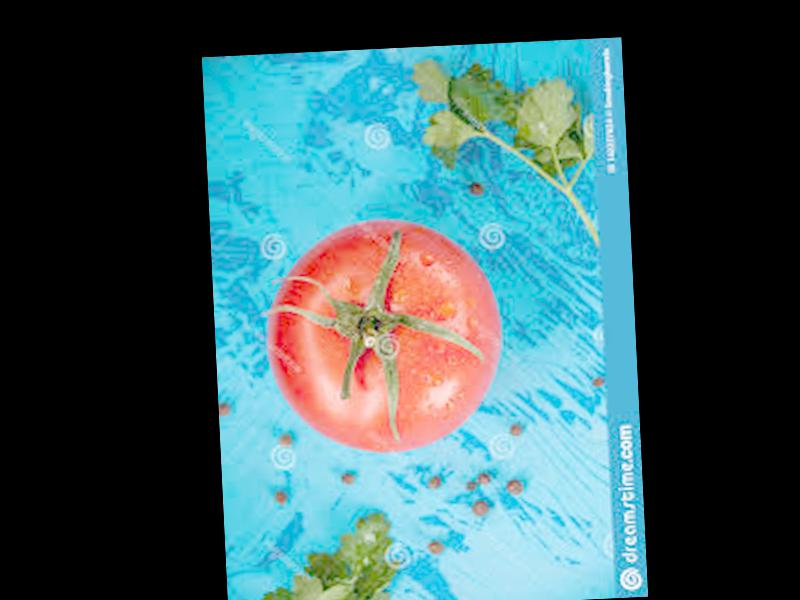Tomato: (263, 214, 506, 457)
